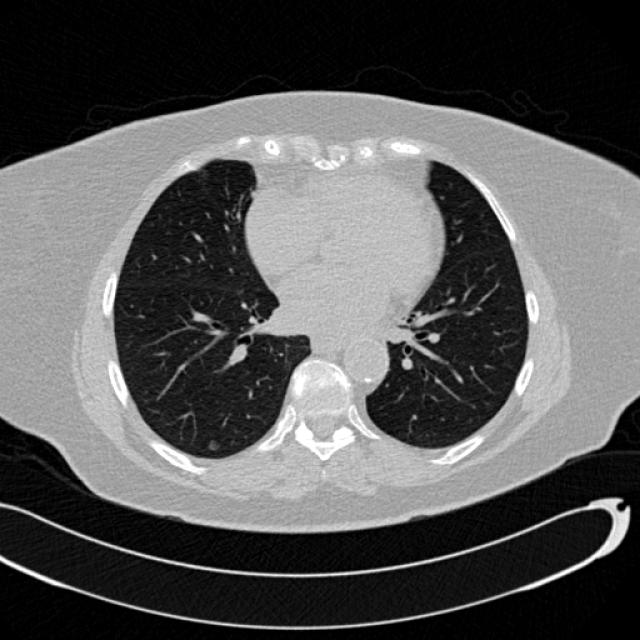nodule: (202, 435, 222, 455)
